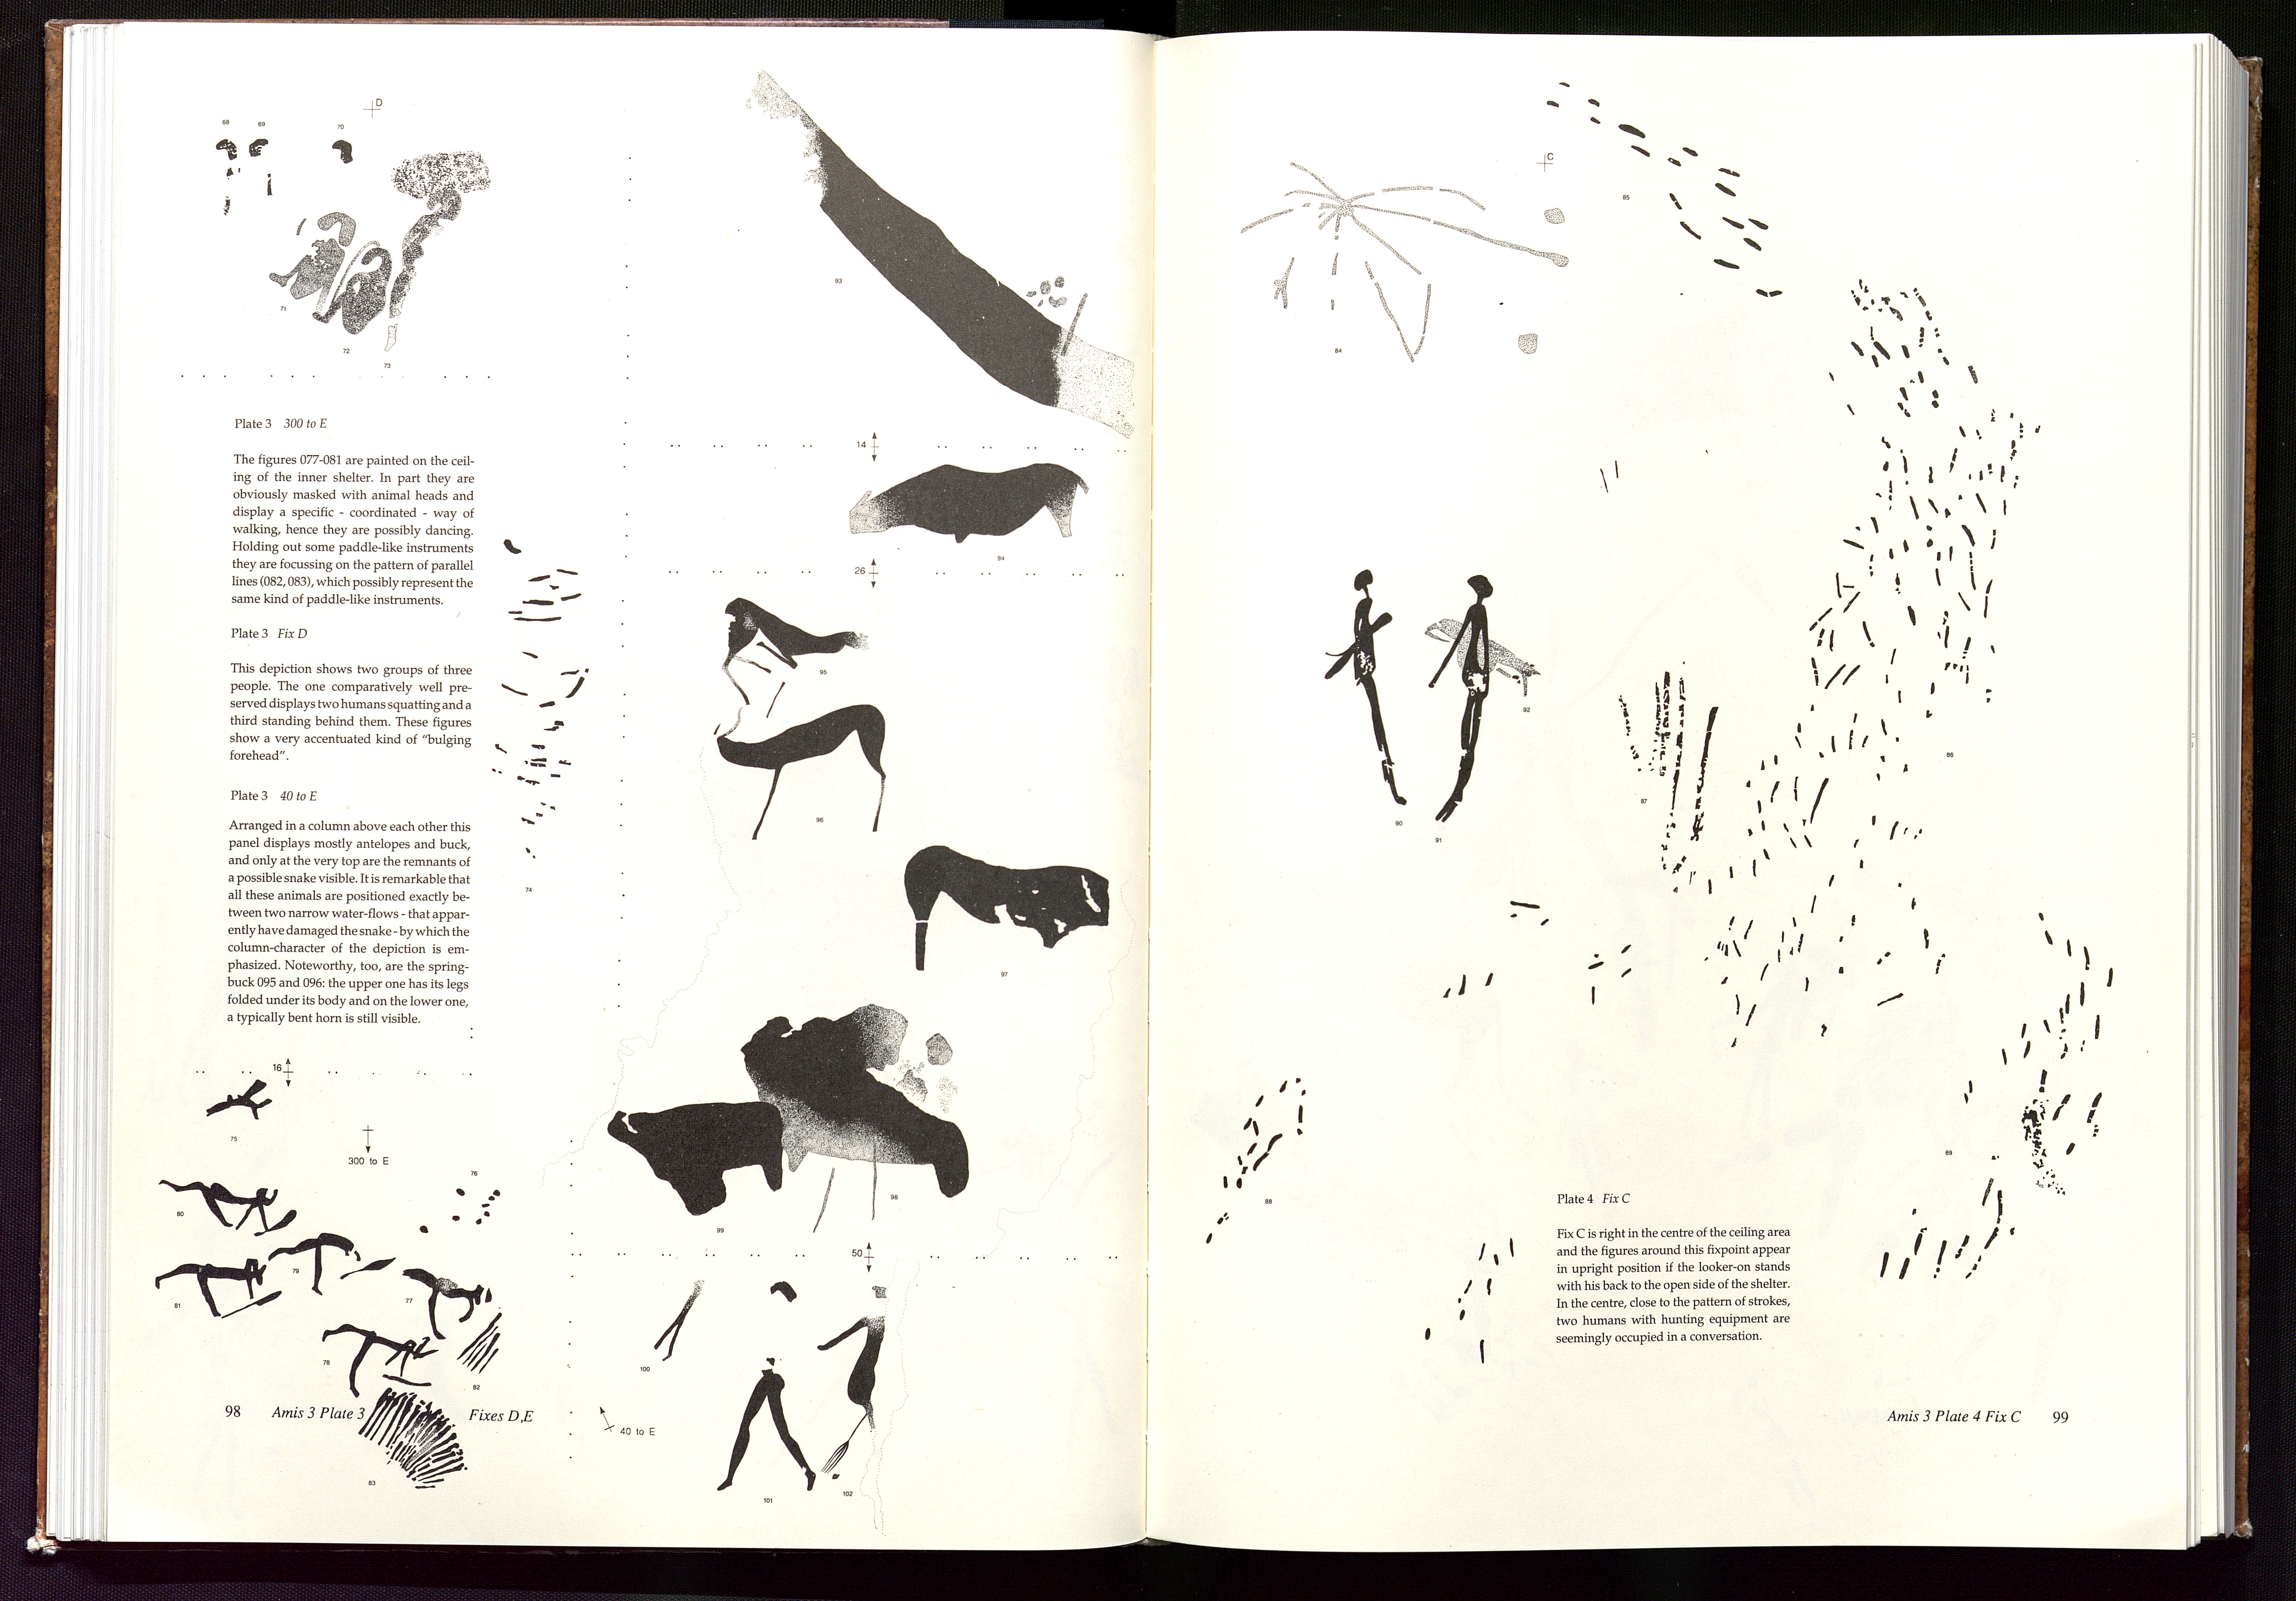animal: (712, 703, 888, 840), (849, 463, 1088, 545), (720, 596, 868, 705)
human: (712, 1279, 819, 1498), (1323, 569, 1408, 806), (1427, 572, 1496, 823), (320, 1321, 440, 1399), (158, 1178, 297, 1237), (152, 1257, 284, 1321), (269, 1231, 395, 1296), (400, 1267, 492, 1341)
